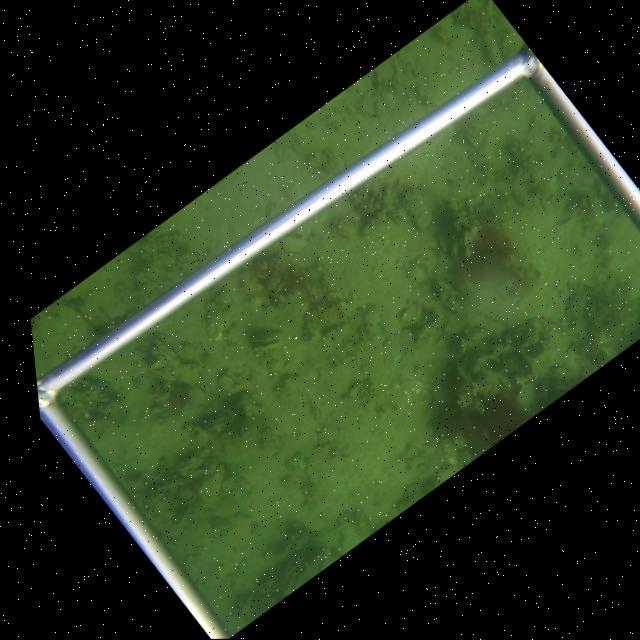Oyster-Closed: (481, 34, 505, 66)
Oyster-Indeterminate: (280, 235, 308, 253)
Oyster-Open: (249, 328, 285, 354), (388, 204, 404, 216)
